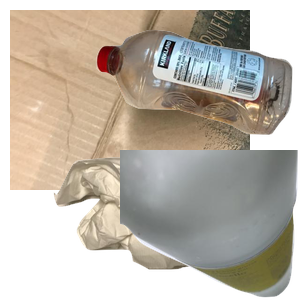cardboard: (10, 10, 250, 190)
glass: (120, 150, 300, 300)
plastic: (93, 27, 300, 154)
trash: (51, 155, 261, 300)
